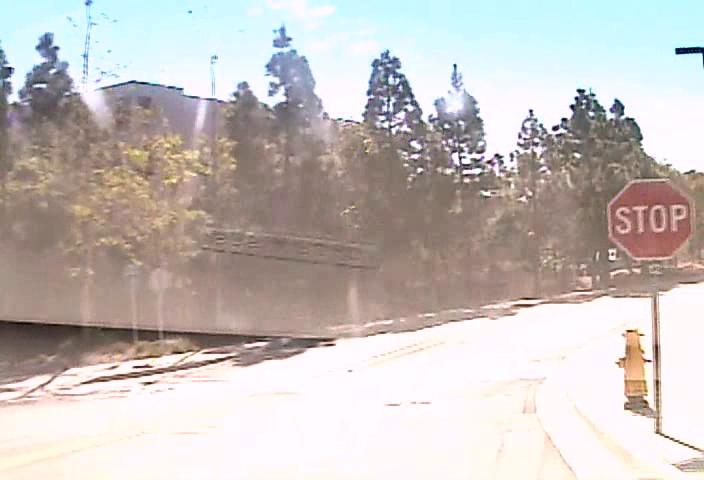stop: (607, 178, 695, 260)
